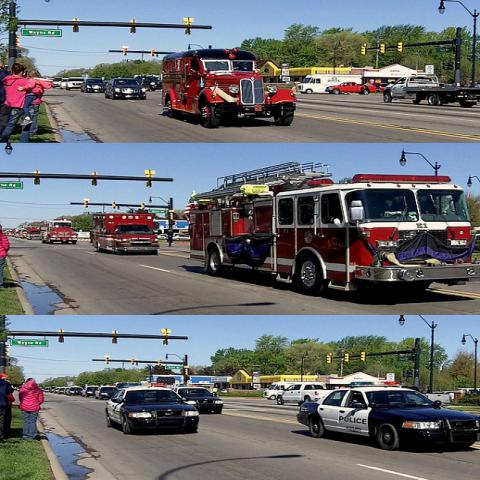car: (292, 383, 479, 450), (103, 386, 199, 435), (169, 386, 224, 414), (278, 383, 326, 405), (104, 78, 147, 100), (325, 82, 368, 95), (94, 386, 118, 399), (82, 384, 98, 398), (66, 387, 83, 395), (171, 235, 191, 241), (57, 387, 65, 394), (53, 387, 60, 394)
truck: (185, 159, 476, 303), (149, 42, 300, 132), (383, 73, 479, 108), (88, 212, 160, 254), (40, 220, 80, 246)
